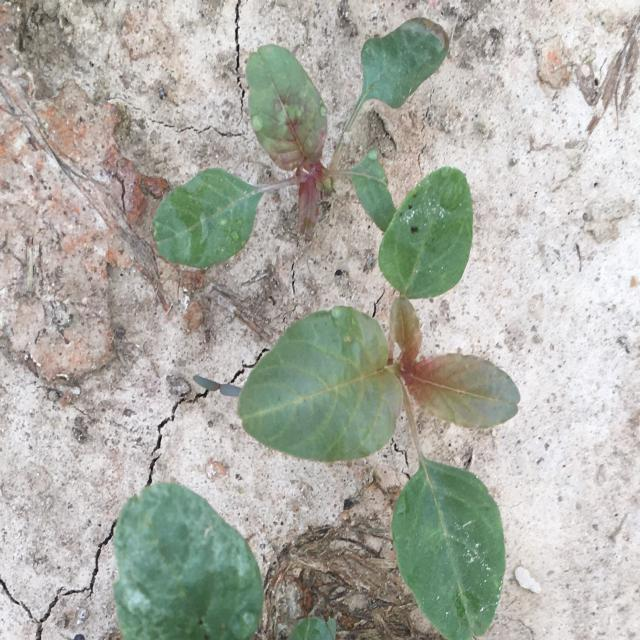PalmerAmaranth: (237, 166, 520, 639), (152, 18, 450, 268)
